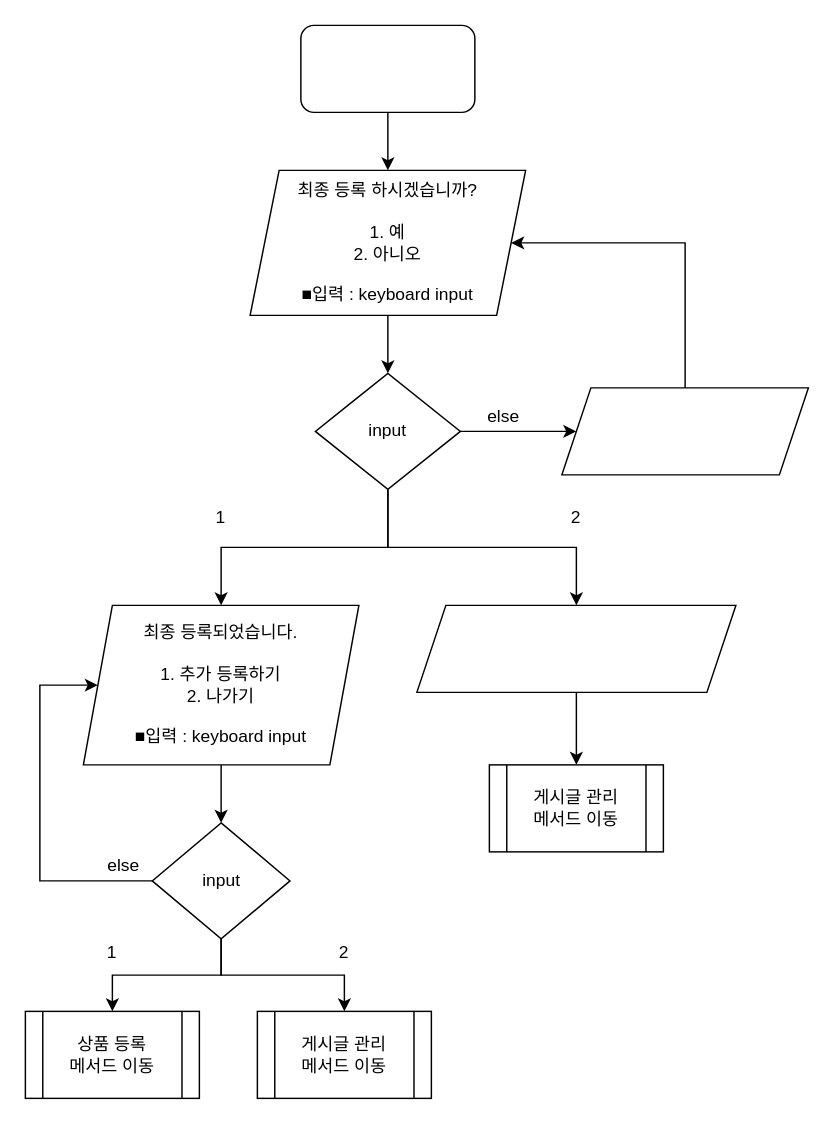
This 834x1124 diagram has some shape labels left out. Here are the shapes that lost their labels. From the top down, the centre of each, then its label:
(x=387, y=68): 최종 등록 선택 메서드 진입
(x=684, y=430): 잘못 입력하셨습니다. 다시 입력해주세요.
(x=575, y=648): 등록이 취소되었습니다. 계속하시려면 엔터를 눌러주세요.
